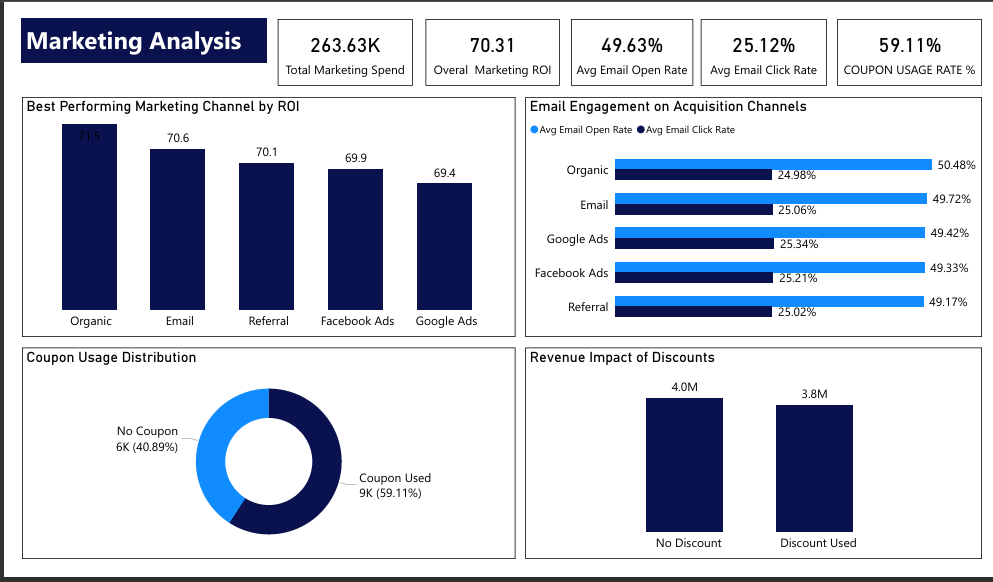

This screenshot's page, from the dashboard's own definition file:
{"tool":"powerbi","page":{"name":"Marketing Analysis","canvas":[1280,720],"ordinal":2},"visuals":[{"type":"card","fields":{"Values":["Table.Total Marketing Spend"]},"box":[341,0,179.7,89],"z":0},{"type":"card","fields":{"Values":["Table.Overal  Marketing ROI"]},"box":[537.5,0,179.7,89],"z":1000},{"type":"card","fields":{"Values":["Table.Avg Email Open Rate"]},"box":[732.4,0,162.9,89],"z":2000},{"type":"card","fields":{"Values":["Table.Avg Email Click Rate"]},"box":[905.4,0,168,89],"z":3000},{"type":"card","fields":{"Values":["Table.COUPON USAGE RATE %"]},"box":[1086.8,0,193.2,89],"z":4000},{"type":"clusteredColumnChart","title":"Best Performing Marketing Channel by ROI","fields":{"Category":["Sales - Marketing customer data.acquisition_channel"],"Y":["Table.Overal  Marketing ROI"]},"box":[0,103.9,658.5,320.4],"z":5000},{"type":"clusteredBarChart","title":"Email Engagement on Acquisition Channels","fields":{"Category":["Sales - Marketing customer data.acquisition_channel"],"Y":["Table.Avg Email Open Rate","Table.Avg Email Click Rate"]},"box":[670.8,103.9,609.2,320.4],"z":6000},{"type":"donutChart","title":"Coupon Usage Distribution","fields":{"Category":["Sales - Marketing customer data.Coupon Used Flag"],"Y":["Table.Total Customer"]},"box":[0,438.4,658.5,281.7],"z":7000},{"type":"textbox","box":[0,0,327.6,60.5],"z":8000},{"type":"clusteredColumnChart","title":"Revenue Impact of Discounts","fields":{"Y":["Table.Total Revenue"],"Category":["Sales - Marketing customer data.Discount Label"]},"box":[670.8,438.4,609.2,281.7],"z":9000}]}

Visuals, with their boxes on the page's 1280x720 design canvas (x1, y1, x2, y2). These are canvas units, not pixel positions in the 993x582 screenshot, which may show the page scaled, cropped or inside an application window:
card - Table.Total Marketing Spend: BBox(341, 0, 521, 89)
card - Table.Overal  Marketing ROI: BBox(538, 0, 717, 89)
card - Table.Avg Email Open Rate: BBox(732, 0, 895, 89)
card - Table.Avg Email Click Rate: BBox(905, 0, 1073, 89)
card - Table.COUPON USAGE RATE %: BBox(1087, 0, 1280, 89)
"Best Performing Marketing Channel by ROI" clusteredColumnChart: BBox(0, 104, 658, 424)
"Email Engagement on Acquisition Channels" clusteredBarChart: BBox(671, 104, 1280, 424)
"Coupon Usage Distribution" donutChart: BBox(0, 438, 658, 720)
textbox: BBox(0, 0, 328, 60)
"Revenue Impact of Discounts" clusteredColumnChart: BBox(671, 438, 1280, 720)
